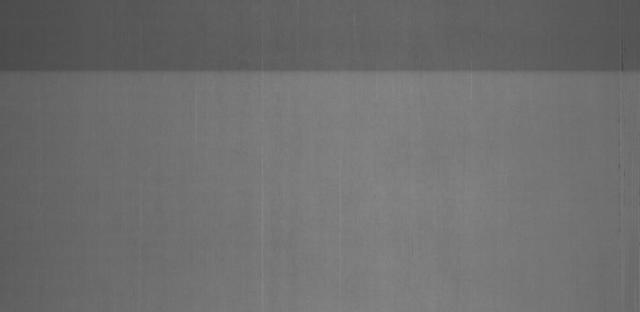welding_line: (0, 53, 632, 81)
